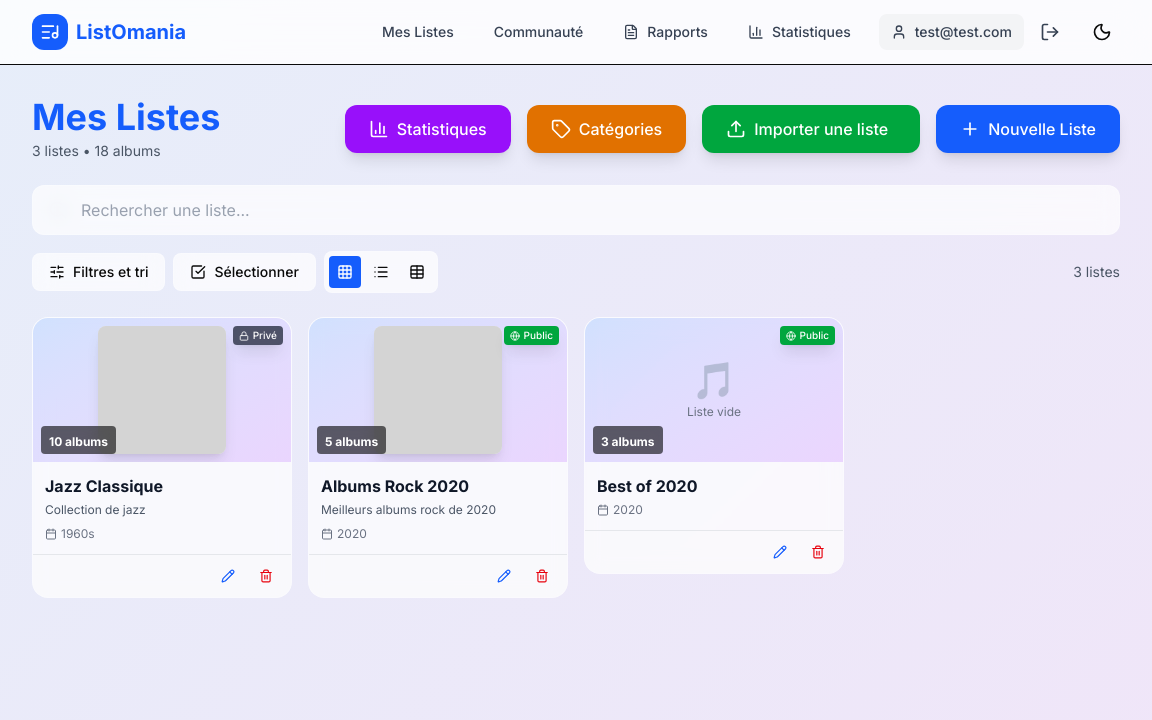
it: Lists - Filtres et tri › filtre les listes par description
Check: the heading "Jazz Classique" is shown, box left=45, top=476, right=163, bottom=496
Type "collection" into the field with placeholder "Rechercher une liste..." at (576, 210), box left=32, top=185, right=1120, bottom=235
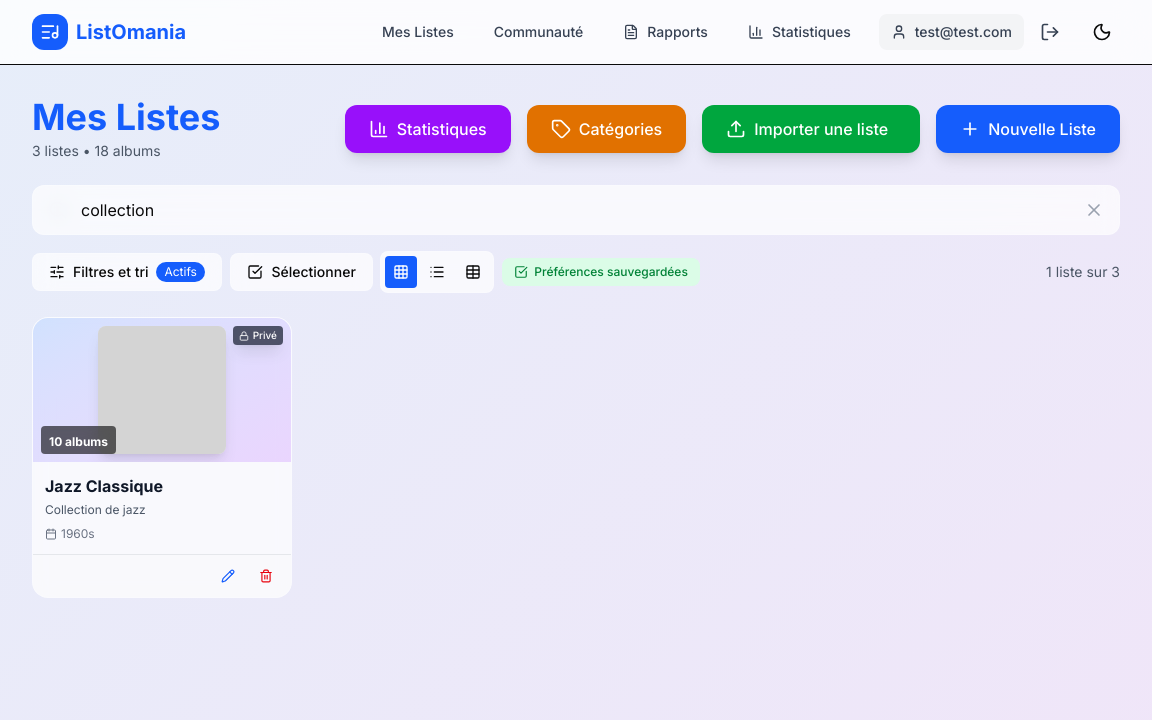
Check: the heading "Jazz Classique" is shown, box left=45, top=476, right=163, bottom=496
Check: the link "Albums Rock 2020" is gone
